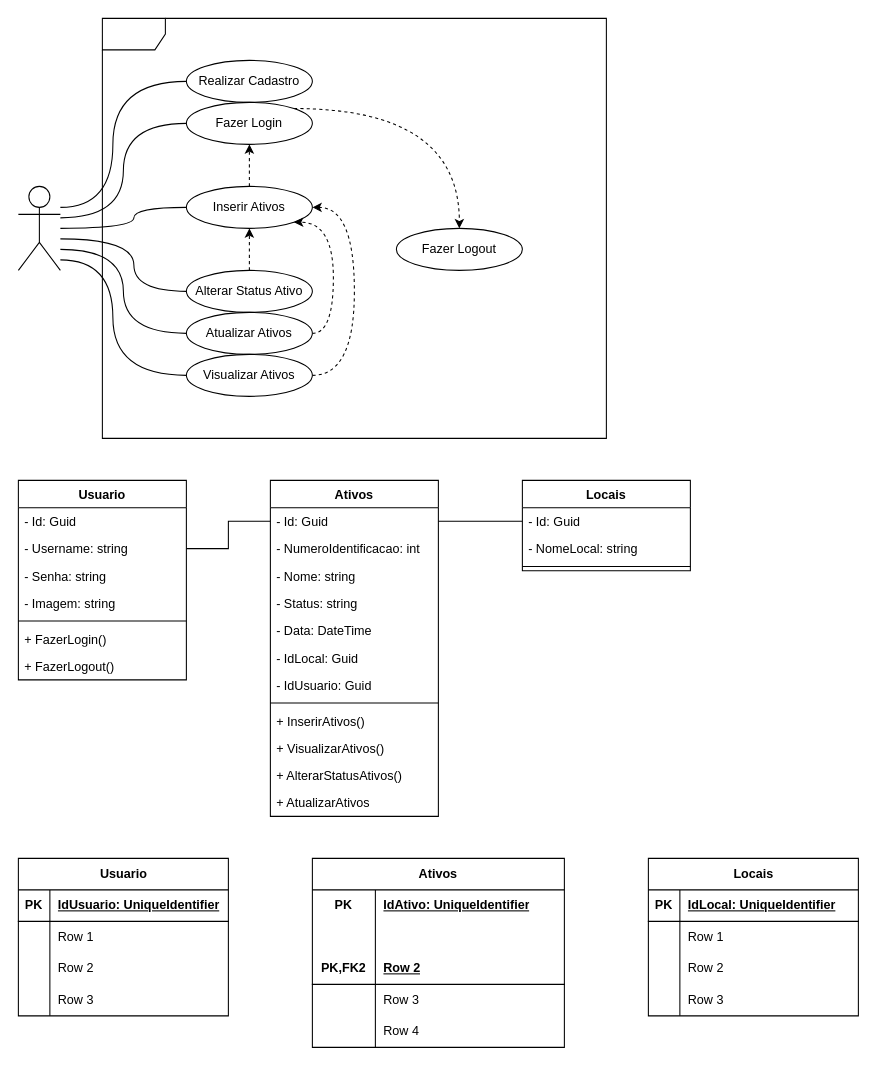
The diagram is 877 pixels wide and 1066 high, and some of its shapes have lost their labels. The shapes that lost their labels are listed below. From the top down, each one's centre as x and y in pixels, then its label:
[38,227]: Usuário
[353,227]: frame
